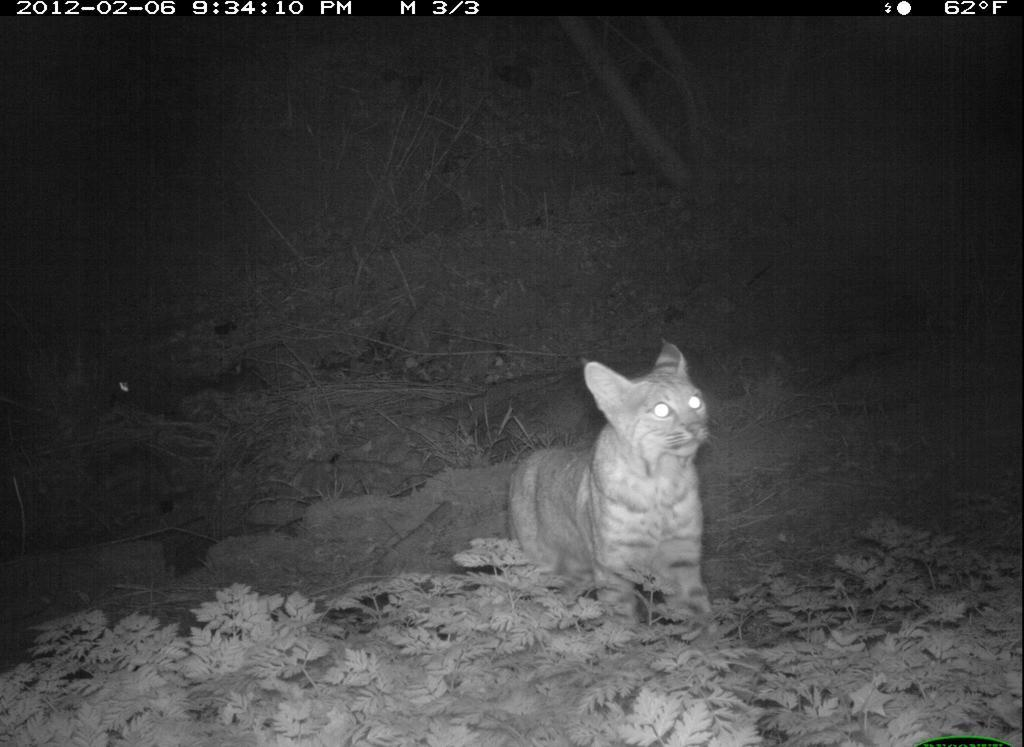bobcat: (491, 341, 743, 653)
